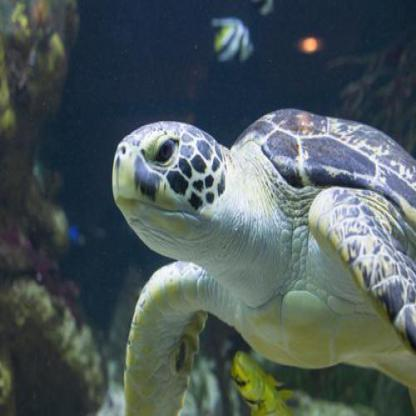turtle: (105, 113, 237, 272)
